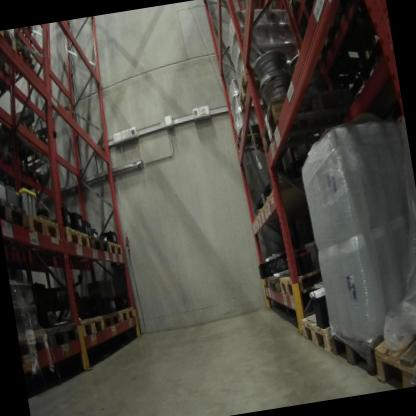pallet: (253, 85, 362, 156), (323, 306, 404, 380), (277, 243, 350, 305), (231, 60, 287, 116), (369, 327, 416, 387), (0, 26, 43, 91), (32, 313, 82, 363), (293, 307, 335, 366), (231, 120, 275, 165), (17, 322, 54, 368), (26, 204, 65, 247), (260, 262, 312, 294), (0, 189, 34, 237), (0, 139, 31, 189), (70, 310, 106, 344), (88, 303, 121, 339), (64, 220, 93, 259), (116, 300, 139, 325), (105, 235, 127, 260), (89, 230, 109, 255)
